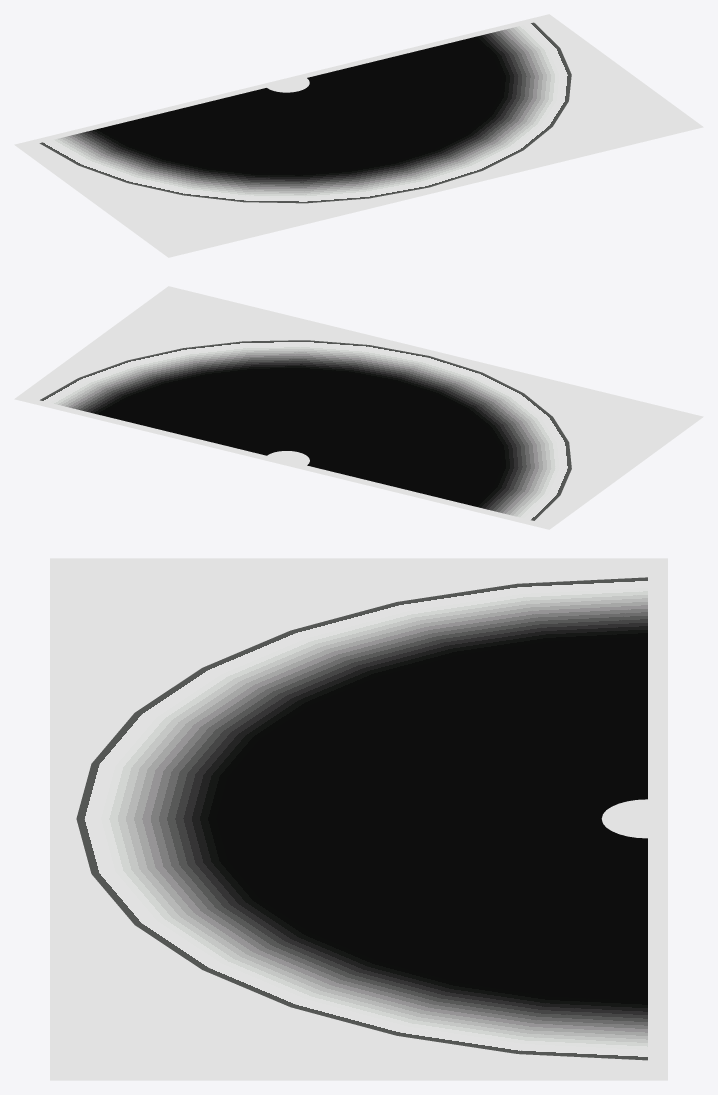
File: skilltips_180du.FBX
3 views of the same model, one above another, from view 1: azimuth 30°, elevation 25°; view 2: azimuth 150°, elevation 25°; view 3: azimuth 270°, elevation 25° (orthographic). The views are drawn at different scales.
Visible parts, largest first — view 1: 180du; view 2: 180du; view 3: 180du.
Boxes of the visible parts, box(x1,y1,x2,y2) form: 180du: box(14, 14, 703, 257); 180du: box(14, 286, 703, 529); 180du: box(50, 558, 667, 1080).
Bounding box in the file's own units: 2.14 × 0.00097 × 1.07.
Materials: 2 (2 with a texture image).
